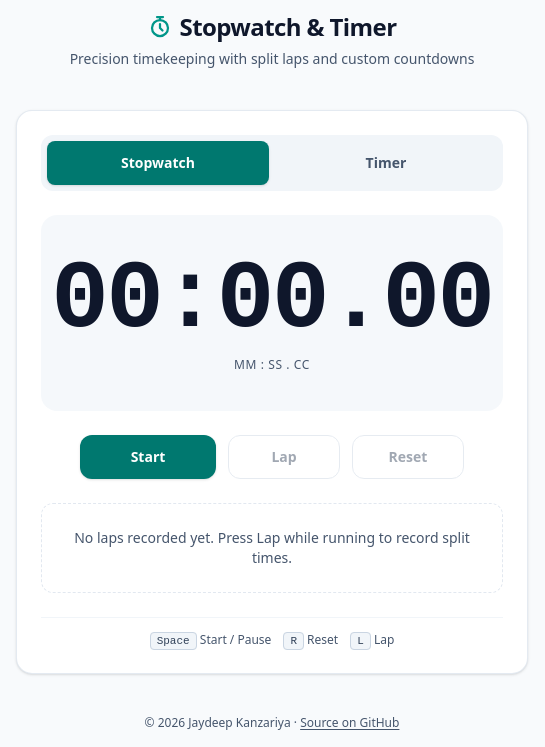
Test: stopwatch › disables Reset when idle and Lap when not running
Expected: the button "Reset" is disabled, [352,435,464,479]
Expected: the button "Lap" is disabled, [228,435,340,479]
Click the button "Start": (148, 457) [80,435,216,479]
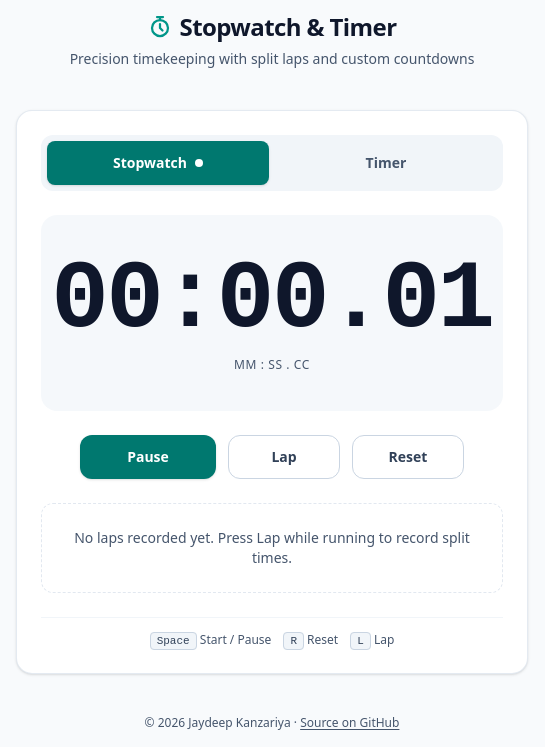
Now the button "Reset" is enabled, box [352,435,464,479]
Now the button "Lap" is enabled, box [228,435,340,479]
